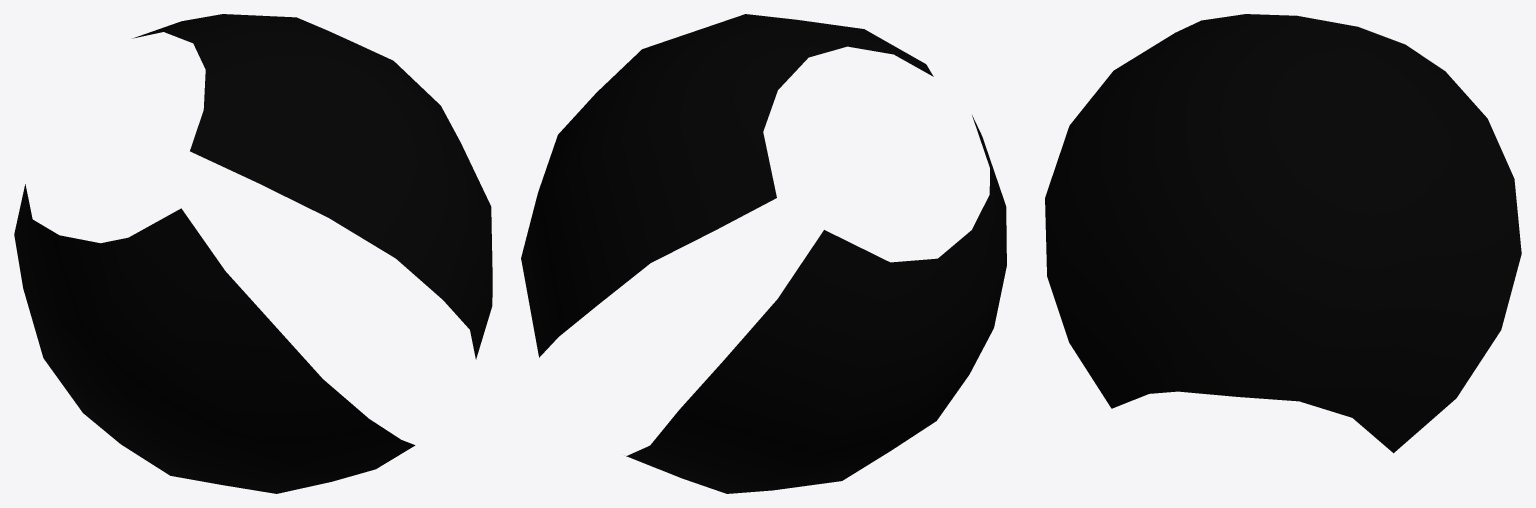
Rendered from bubble_solid_techno.glb.
3 renders of one model, left to right at view 1: azimuth 30°, elevation 25°; view 2: azimuth 150°, elevation 25°; view 3: azimuth 270°, elevation 25°, orthographic.
Parts seen in each view (by area): view 1: bubble_solid_texture.png__; view 2: bubble_solid_texture.png__; view 3: bubble_solid_texture.png__.
Part boxes in pixels (x1,y1,x2,y2): bubble_solid_texture.png__: (14,14,492,493); bubble_solid_texture.png__: (521,14,1006,493); bubble_solid_texture.png__: (1045,14,1521,453).
Bounding box in the file's own units: 12.8 × 12.92 × 12.92.
Materials: 1 (1 with a texture image).
